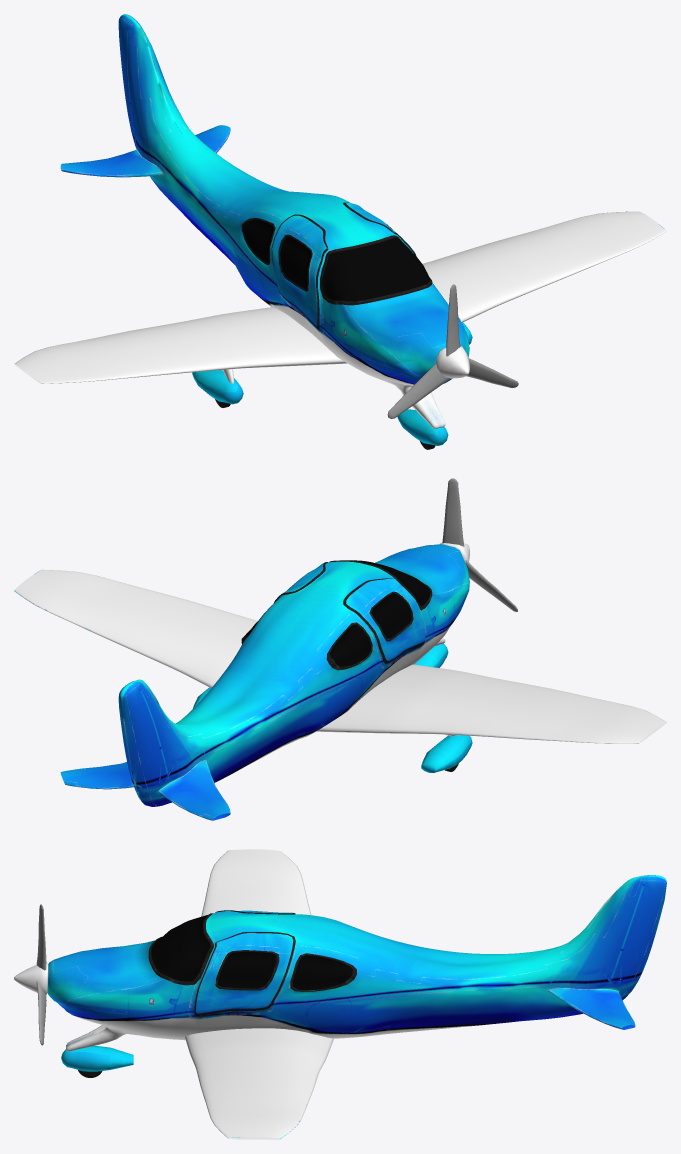
The picture shows the model from 3 angles, top to bottom: view 1: azimuth 30°, elevation 25°; view 2: azimuth 150°, elevation 25°; view 3: azimuth 270°, elevation 25°; orthographic projection. The views are drawn at different scales.
Parts seen in each view (by area): view 1: Light Aircraft; view 2: Light Aircraft; view 3: Light Aircraft.
Part boxes in pixels (x1=…): Light Aircraft: x1=14, y1=14, x2=666, y2=449; Light Aircraft: x1=14, y1=478, x2=666, y2=820; Light Aircraft: x1=14, y1=849, x2=666, y2=1139.
Bounding box in the file's own units: 9.19 × 3.01 × 8.81.
Materials: 5 (4 with a texture image).
